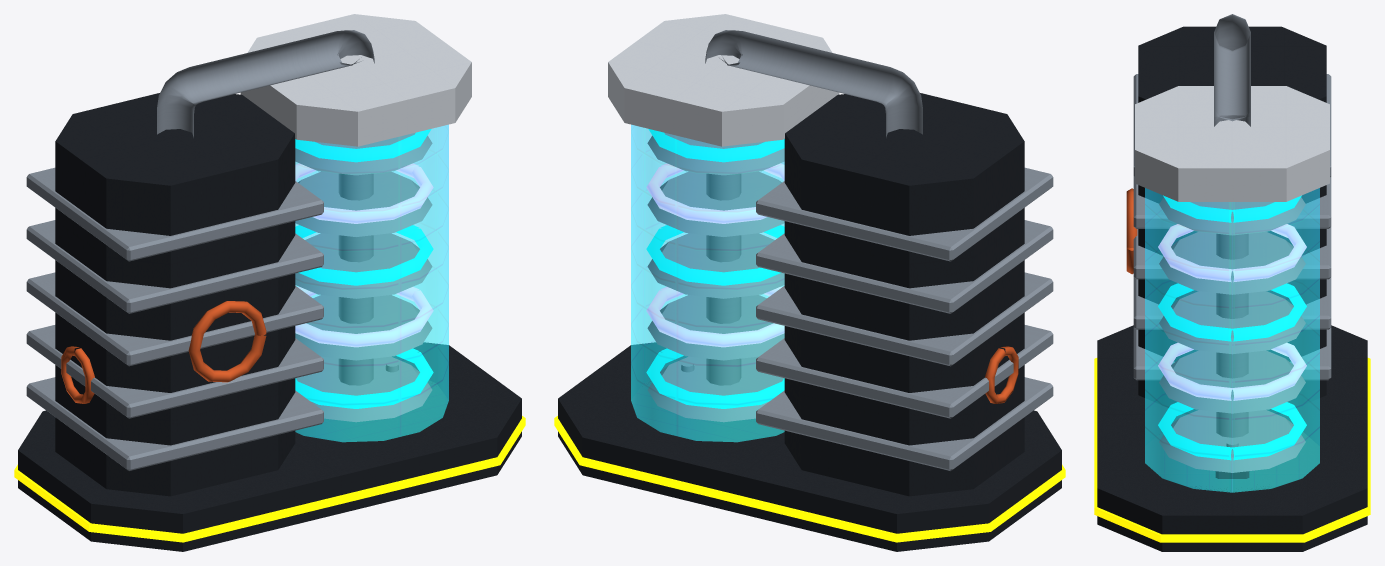
File: prop_03_winner_01.glb
3 views of the same model, side by side, from view 1: azimuth 30°, elevation 25°; view 2: azimuth 150°, elevation 25°; view 3: azimuth 270°, elevation 25° (orthographic). The views are drawn at different scales.
Parts seen in each view (by area): view 1: Prop03_C02_gunmetal, Prop03_C02_steel_machined, Prop03_C02_glass_cyan, Prop03_C02_aero_white, Prop03_C02_led_cyan, Prop03_C02_led_amber, Prop03_C02_led_uv, Prop03_C02_accent_orange; view 2: Prop03_C02_gunmetal, Prop03_C02_steel_machined, Prop03_C02_glass_cyan, Prop03_C02_aero_white, Prop03_C02_led_cyan, Prop03_C02_led_amber, Prop03_C02_led_uv, Prop03_C02_accent_orange; view 3: Prop03_C02_glass_cyan, Prop03_C02_gunmetal, Prop03_C02_steel_machined, Prop03_C02_aero_white, Prop03_C02_led_cyan, Prop03_C02_led_uv, Prop03_C02_led_amber, Prop03_C02_accent_orange.
Boxes of the visible parts, x1,y1,x2,y2 form: Prop03_C02_gunmetal: [18, 93, 521, 551]; Prop03_C02_steel_machined: [26, 30, 432, 470]; Prop03_C02_glass_cyan: [295, 124, 448, 442]; Prop03_C02_aero_white: [240, 14, 471, 146]; Prop03_C02_led_cyan: [295, 129, 433, 408]; Prop03_C02_led_amber: [14, 416, 525, 542]; Prop03_C02_led_uv: [295, 163, 433, 347]; Prop03_C02_accent_orange: [61, 301, 266, 403]; Prop03_C02_gunmetal: [558, 93, 1061, 551]; Prop03_C02_steel_machined: [647, 30, 1053, 470]; Prop03_C02_glass_cyan: [631, 124, 784, 442]; Prop03_C02_aero_white: [608, 14, 839, 146]; Prop03_C02_led_cyan: [646, 129, 784, 408]; Prop03_C02_led_amber: [554, 416, 1065, 542]; Prop03_C02_led_uv: [646, 163, 784, 347]; Prop03_C02_accent_orange: [985, 346, 1018, 403]; Prop03_C02_glass_cyan: [1145, 188, 1319, 492]; Prop03_C02_gunmetal: [1097, 26, 1367, 551]; Prop03_C02_steel_machined: [1133, 14, 1331, 472]; Prop03_C02_aero_white: [1135, 86, 1329, 201]; Prop03_C02_led_cyan: [1158, 195, 1306, 460]; Prop03_C02_led_uv: [1158, 224, 1306, 400]; Prop03_C02_led_amber: [1094, 358, 1370, 542]; Prop03_C02_accent_orange: [1126, 188, 1137, 274].
Bounding box in the file's own units: 3.14 × 2.84 × 1.79.
Materials: 9 (9 with a texture image).
